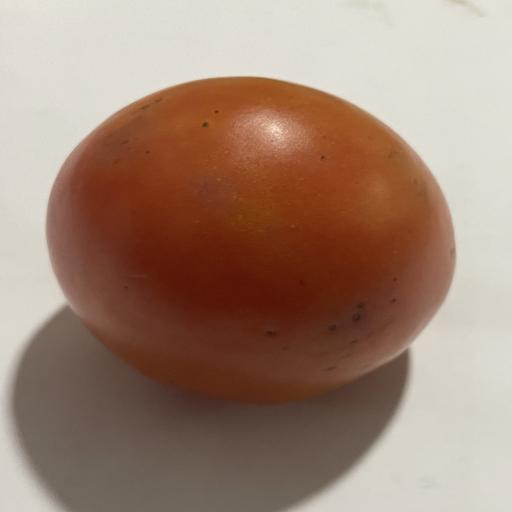ripe: (47, 77, 455, 402)
